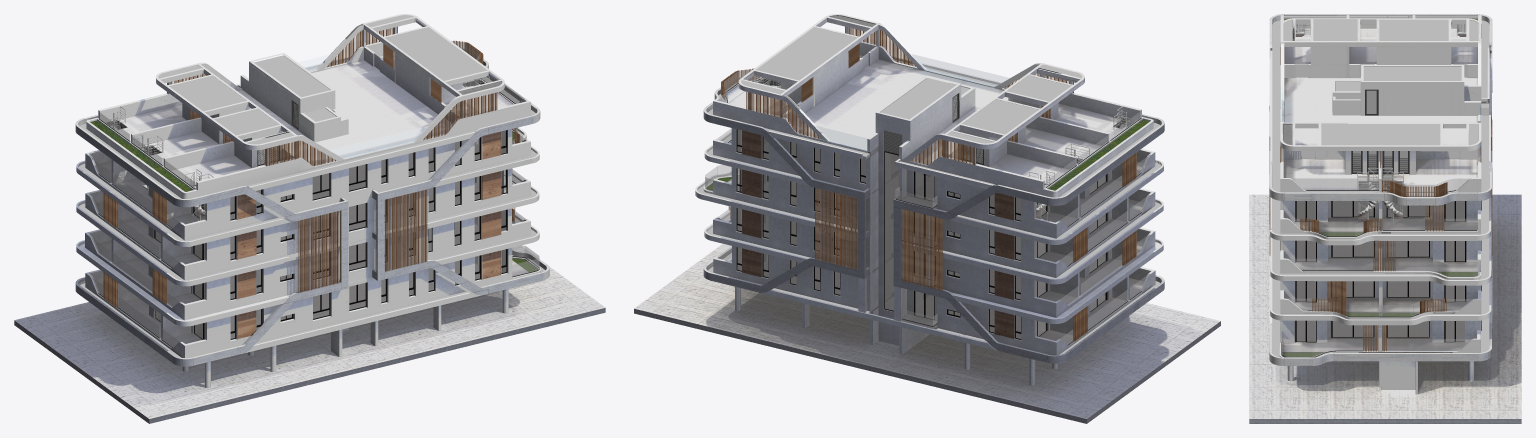
The model's file is type-f-1024.glb.
The picture shows the model from 3 angles, left to right: view 1: azimuth 30°, elevation 25°; view 2: azimuth 150°, elevation 25°; view 3: azimuth 270°, elevation 25°; orthographic projection.
Parts seen in each view (by area): view 1: mGroun_ Floor001, Roo_Floor001, Object_14572, RAILING - 028, 1-4 Floor, KOMA-01, ROOF_Block, KOMA-02, KOMA-004+, KOMA-003, Roof Top L, BELT- L (+15 smaller); view 2: mGroun_ Floor001, RAILING - 028, Object_14572, Roo_Floor001, 1-4 Floor, KOMA-01, KOMA-02, KOMA-004+, KOMA-003, ROOF_Block, Roof Top L, Win Glass (+17 smaller); view 3: mGroun_ Floor001, 1-4 Floor, Object_14572, Roo_Floor001, ROOF_Block, RAILING - 017, Win Glass, BELT-R, RAILING - 028, Roof Top L, Roof Top R, KOMA-02 (+14 smaller).
Boxes of the visible parts, bbox=[...] form: mGroun_ Floor001: bbox=[14, 245, 605, 423]; Roo_Floor001: bbox=[106, 53, 513, 186]; Object_14572: bbox=[79, 15, 545, 357]; RAILING - 028: bbox=[103, 26, 520, 308]; 1-4 Floor: bbox=[96, 129, 528, 347]; KOMA-01: bbox=[79, 248, 540, 358]; ROOF_Block: bbox=[131, 27, 494, 170]; KOMA-02: bbox=[85, 208, 530, 320]; KOMA-004+: bbox=[85, 84, 530, 240]; KOMA-003: bbox=[85, 168, 530, 280]; Roof Top L: bbox=[86, 62, 360, 198]; BELT- L: bbox=[75, 115, 348, 366]; mGroun_ Floor001: bbox=[634, 243, 1220, 423]; RAILING - 028: bbox=[721, 26, 1136, 341]; Object_14572: bbox=[697, 27, 1161, 354]; Roo_Floor001: bbox=[729, 52, 1133, 184]; 1-4 Floor: bbox=[728, 119, 1143, 344]; KOMA-01: bbox=[713, 246, 1155, 355]; KOMA-02: bbox=[713, 207, 1155, 317]; KOMA-004+: bbox=[713, 83, 1155, 238]; KOMA-003: bbox=[713, 167, 1155, 277]; ROOF_Block: bbox=[748, 27, 1109, 169]; Roof Top L: bbox=[902, 63, 1153, 197]; Win Glass: bbox=[737, 129, 1105, 338]; mGroun_ Floor001: bbox=[1249, 194, 1521, 423]; 1-4 Floor: bbox=[1282, 115, 1477, 354]; Object_14572: bbox=[1272, 19, 1489, 356]; Roo_Floor001: bbox=[1283, 28, 1477, 192]; ROOF_Block: bbox=[1281, 15, 1489, 191]; RAILING - 017: bbox=[1281, 15, 1491, 357]; Win Glass: bbox=[1297, 186, 1464, 341]; BELT-R: bbox=[1269, 151, 1492, 365]; RAILING - 028: bbox=[1269, 47, 1492, 351]; Roof Top L: bbox=[1280, 15, 1481, 107]; Roof Top R: bbox=[1280, 107, 1481, 195]; KOMA-02: bbox=[1280, 281, 1481, 319].
Size of the model in its own units: 39.02 by 19.31 by 20.
41 materials, 25 textured.
